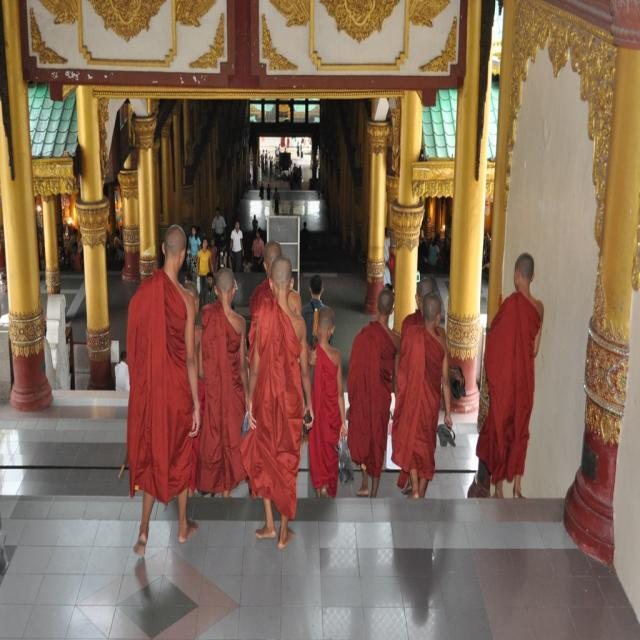Person: (0, 135, 545, 557)
